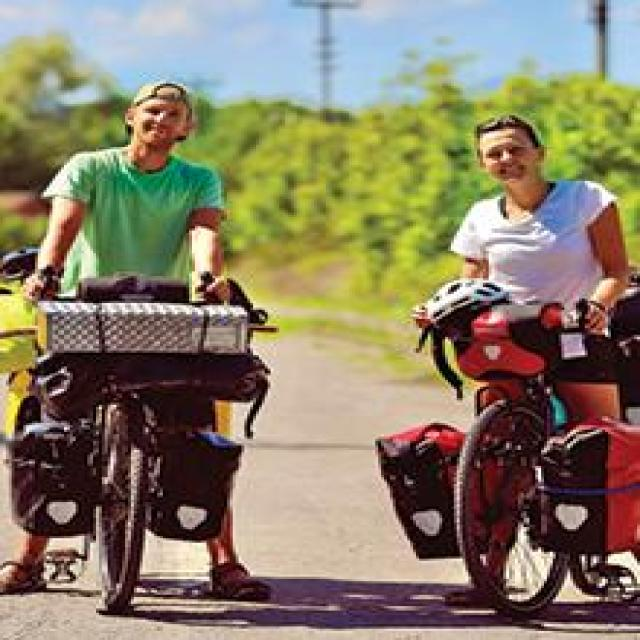bicycle: (3, 81, 270, 614), (378, 115, 640, 616)
